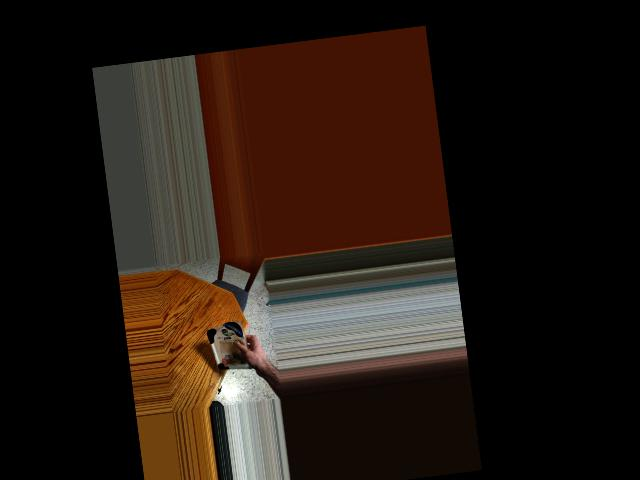cheese: (209, 317, 251, 379)
